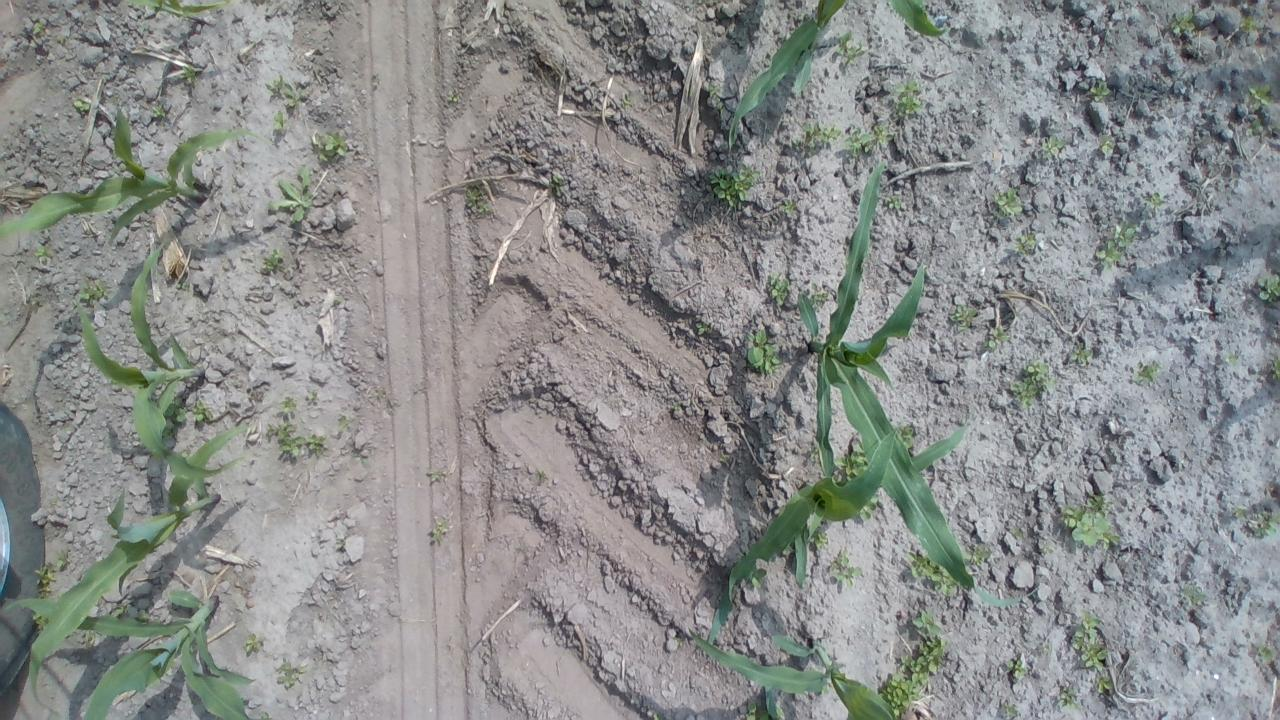Maize: (788, 152, 1041, 608), (15, 412, 248, 720), (708, 422, 974, 648), (74, 230, 245, 490), (0, 97, 266, 248), (727, 1, 951, 154), (14, 584, 258, 720), (686, 610, 920, 720), (127, 0, 234, 26)
Weeds: (878, 612, 949, 716), (1060, 492, 1125, 548), (1069, 610, 1112, 681), (267, 166, 317, 224), (1008, 360, 1058, 412), (905, 550, 959, 598), (707, 166, 762, 210), (264, 420, 322, 460), (1095, 222, 1139, 270), (745, 328, 783, 376), (844, 122, 892, 159), (836, 441, 872, 487), (792, 121, 843, 153), (268, 72, 308, 108), (1244, 84, 1274, 131), (310, 128, 350, 163), (829, 550, 864, 590), (835, 28, 868, 68), (160, 394, 187, 442), (890, 80, 924, 118), (993, 186, 1024, 219), (464, 185, 495, 218), (765, 272, 791, 308), (1246, 508, 1276, 539), (78, 280, 109, 308), (949, 303, 979, 331), (276, 660, 304, 688), (1132, 360, 1162, 385), (1256, 272, 1278, 304), (34, 566, 62, 591), (1179, 584, 1205, 610), (984, 325, 1010, 350), (1170, 12, 1194, 38), (1056, 687, 1080, 712), (967, 544, 991, 569), (190, 399, 214, 424), (1040, 134, 1065, 158), (1012, 232, 1037, 255), (1006, 657, 1031, 680), (706, 84, 725, 114), (432, 518, 452, 546), (261, 249, 285, 272), (808, 284, 831, 308), (776, 196, 800, 218), (809, 526, 831, 550), (1070, 346, 1096, 366), (856, 499, 878, 522), (177, 61, 200, 82), (1239, 15, 1262, 36), (896, 424, 916, 448), (242, 633, 264, 654), (276, 396, 298, 416), (1255, 642, 1275, 664), (1144, 190, 1165, 210), (110, 604, 136, 620), (33, 243, 56, 261), (549, 172, 566, 196), (1088, 82, 1110, 100), (272, 110, 288, 134), (1000, 700, 1021, 718), (54, 549, 72, 570), (72, 94, 90, 114), (30, 610, 50, 628), (744, 702, 764, 720), (1093, 676, 1114, 693), (336, 413, 353, 433), (808, 440, 822, 464), (1100, 135, 1116, 155), (152, 102, 168, 121), (886, 194, 904, 210), (81, 634, 101, 648), (32, 18, 46, 38), (353, 455, 374, 468), (618, 94, 632, 112), (694, 321, 711, 335), (173, 278, 190, 292), (1266, 358, 1276, 381), (1224, 352, 1240, 366), (1040, 642, 1056, 656), (446, 91, 461, 103), (426, 470, 442, 481), (1039, 541, 1052, 554), (1011, 529, 1025, 541), (719, 452, 731, 465), (536, 468, 548, 480), (307, 390, 319, 400), (260, 710, 270, 718)
